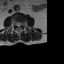CCS_normal: (18, 23, 19, 30)
LFS_severe_stenosis: (21, 23, 22, 26)
LLS_stenosis: (19, 23, 21, 28)
RFS_severe_stenosis: (14, 22, 16, 26)
RLS_stenosis: (16, 23, 18, 27)
